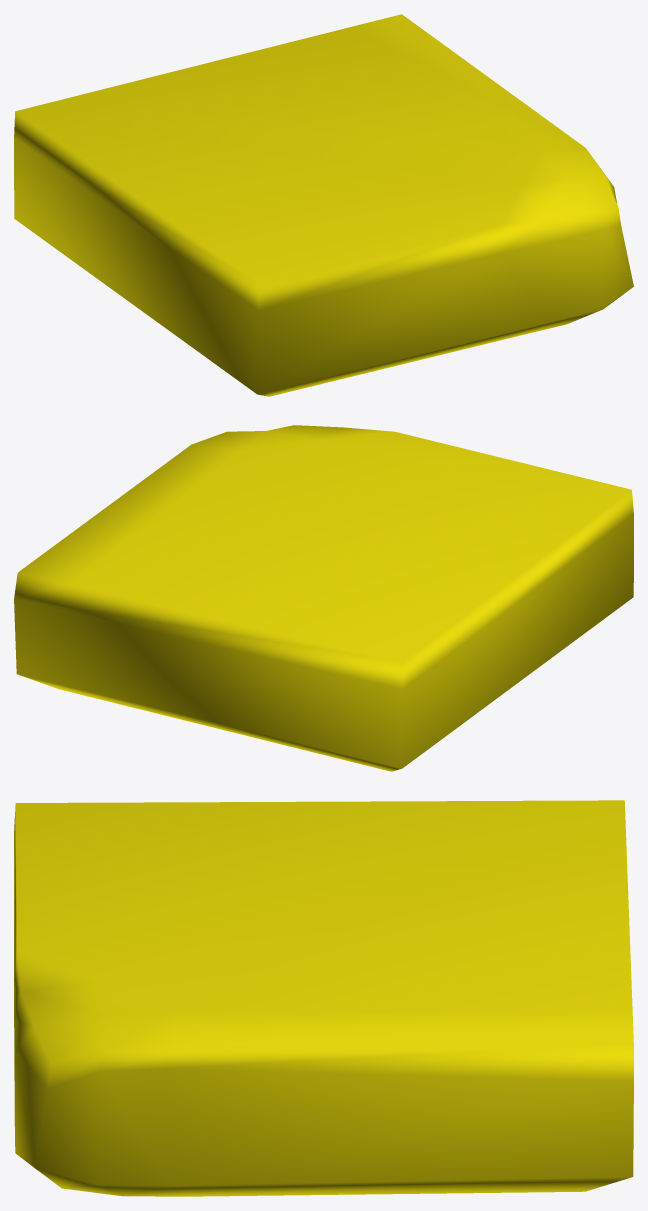
File: Pillar_Block_02_Lod0.fbx
3 views of the same model, one above another, from view 1: azimuth 30°, elevation 25°; view 2: azimuth 150°, elevation 25°; view 3: azimuth 270°, elevation 25° (orthographic). The views are drawn at different scales.
Parts seen in each view (by area): view 1: Pillar_Block_02_Lod0; view 2: Pillar_Block_02_Lod0; view 3: Pillar_Block_02_Lod0.
Part boxes in pixels (bbox=[...]): Pillar_Block_02_Lod0: bbox=[14, 14, 633, 396]; Pillar_Block_02_Lod0: bbox=[14, 425, 633, 771]; Pillar_Block_02_Lod0: bbox=[14, 800, 633, 1196].
Size of the model in its own units: 563 by 180 by 594.
